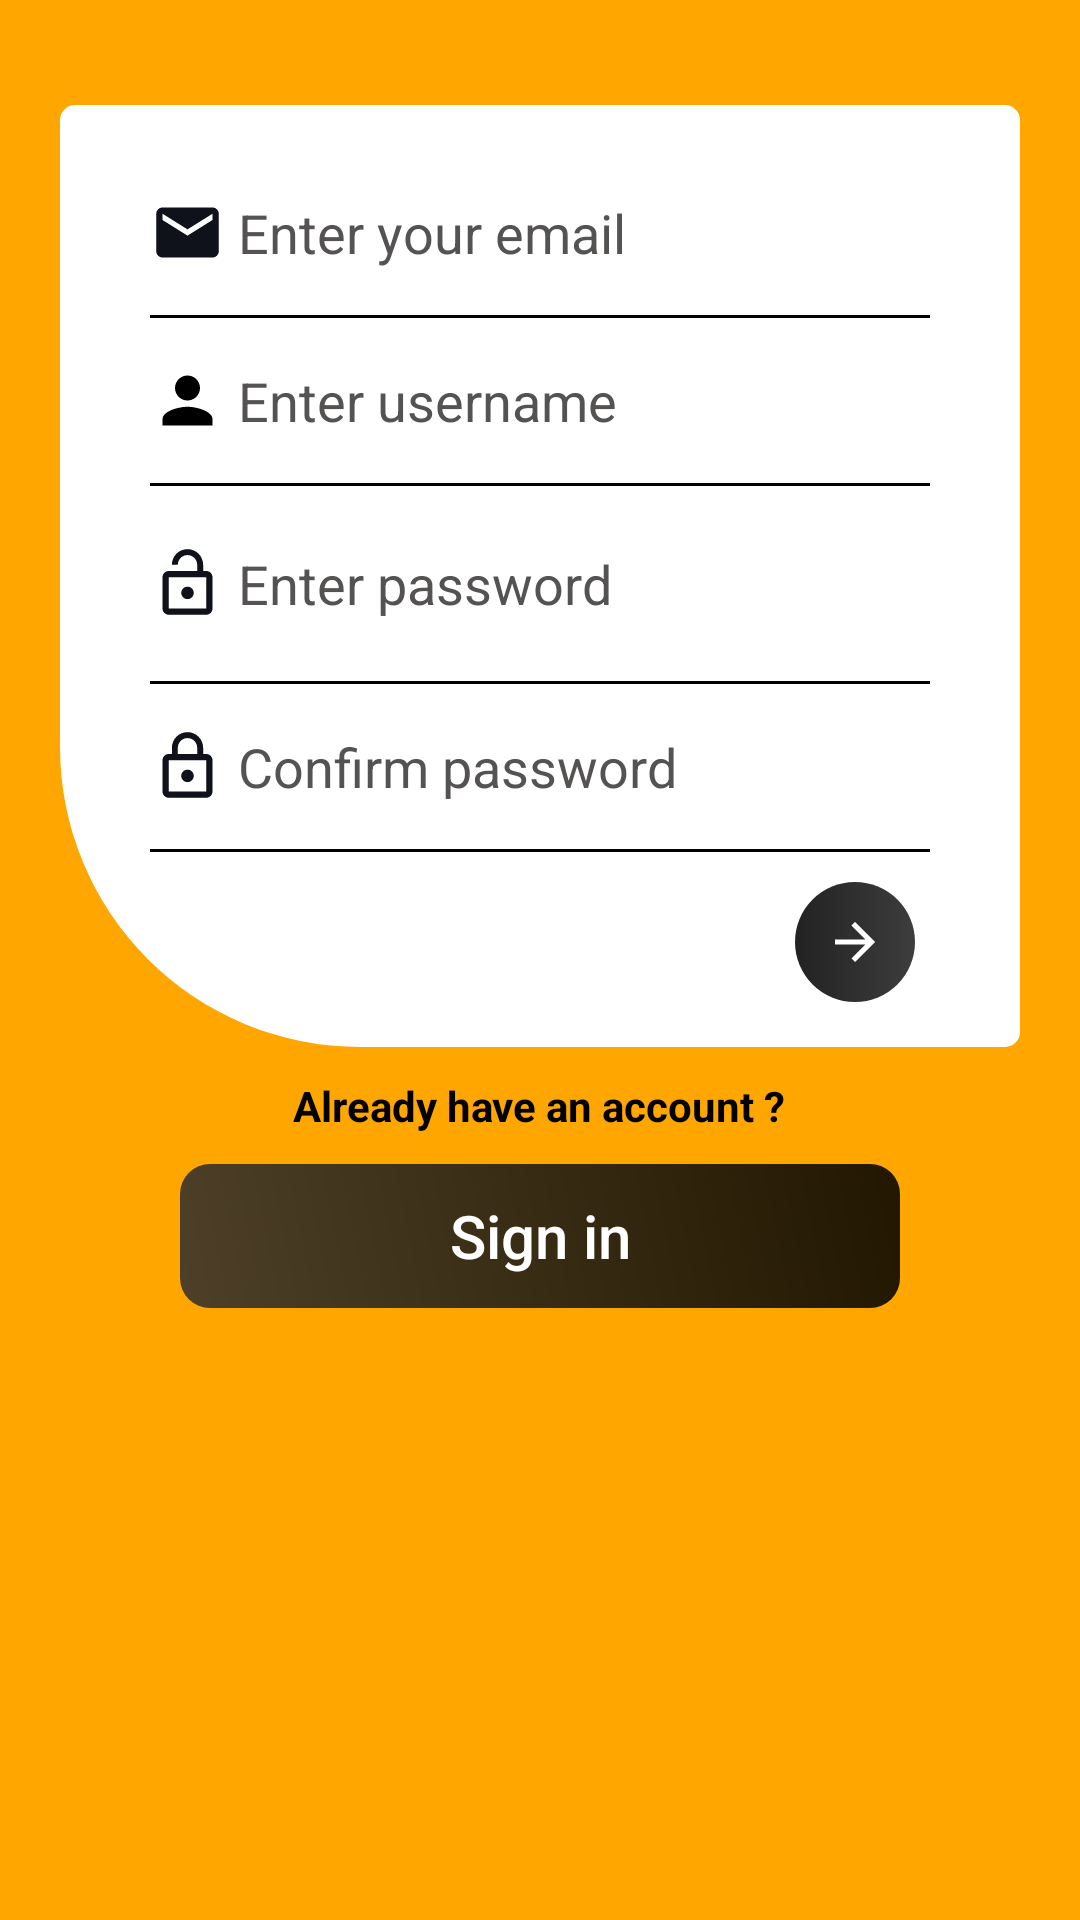

Icon click points for this 1080px×1920px phone screenshot, format (x=x, y=y):
arrow forward: (x=855, y=942)
